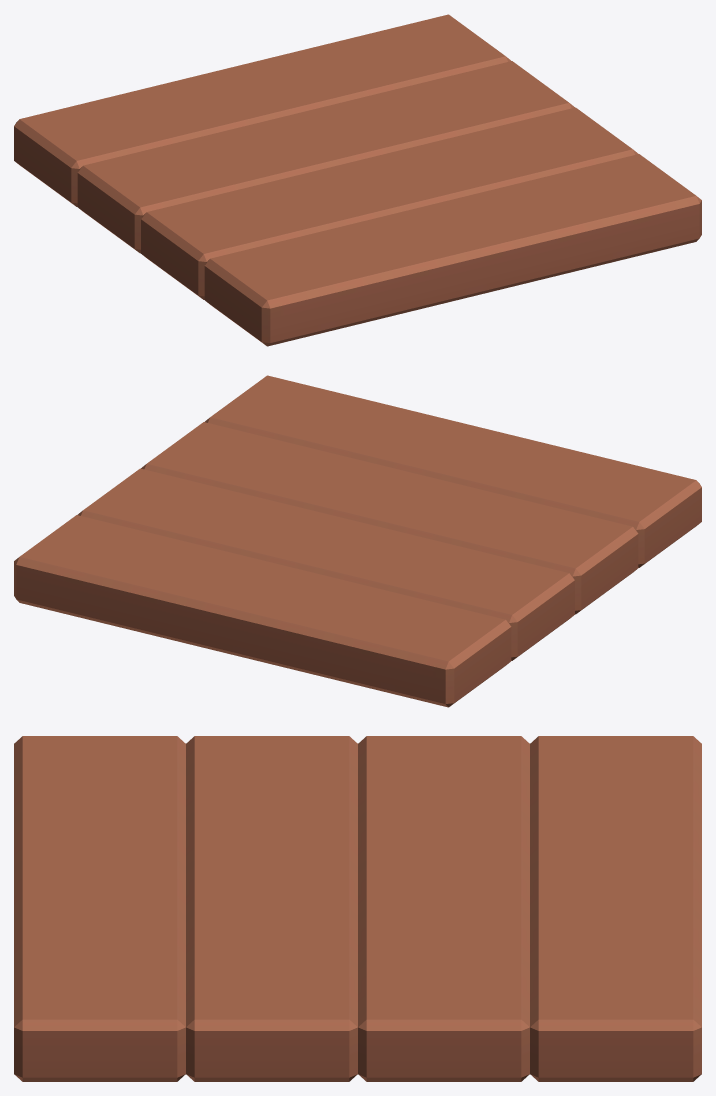
The model's file is crate-lid.glb.
3 views of the same model, one above another, from view 1: azimuth 30°, elevation 25°; view 2: azimuth 150°, elevation 25°; view 3: azimuth 270°, elevation 25° (orthographic). The views are drawn at different scales.
Visible parts, largest first — view 1: crate_lid; view 2: crate_lid; view 3: crate_lid.
Part boxes in pixels (left/top/right/bottom): crate_lid: left=14, top=14, right=701, bottom=346; crate_lid: left=14, top=375, right=701, bottom=707; crate_lid: left=14, top=736, right=701, bottom=1081.
Bounding box in the file's own units: 2 × 0.2 × 2.
1 material, 1 textured.
